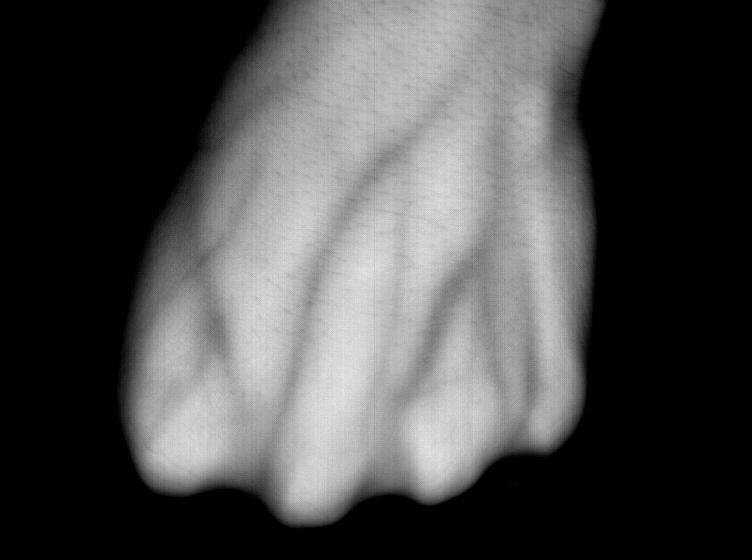Vein: (294, 32, 520, 371)
